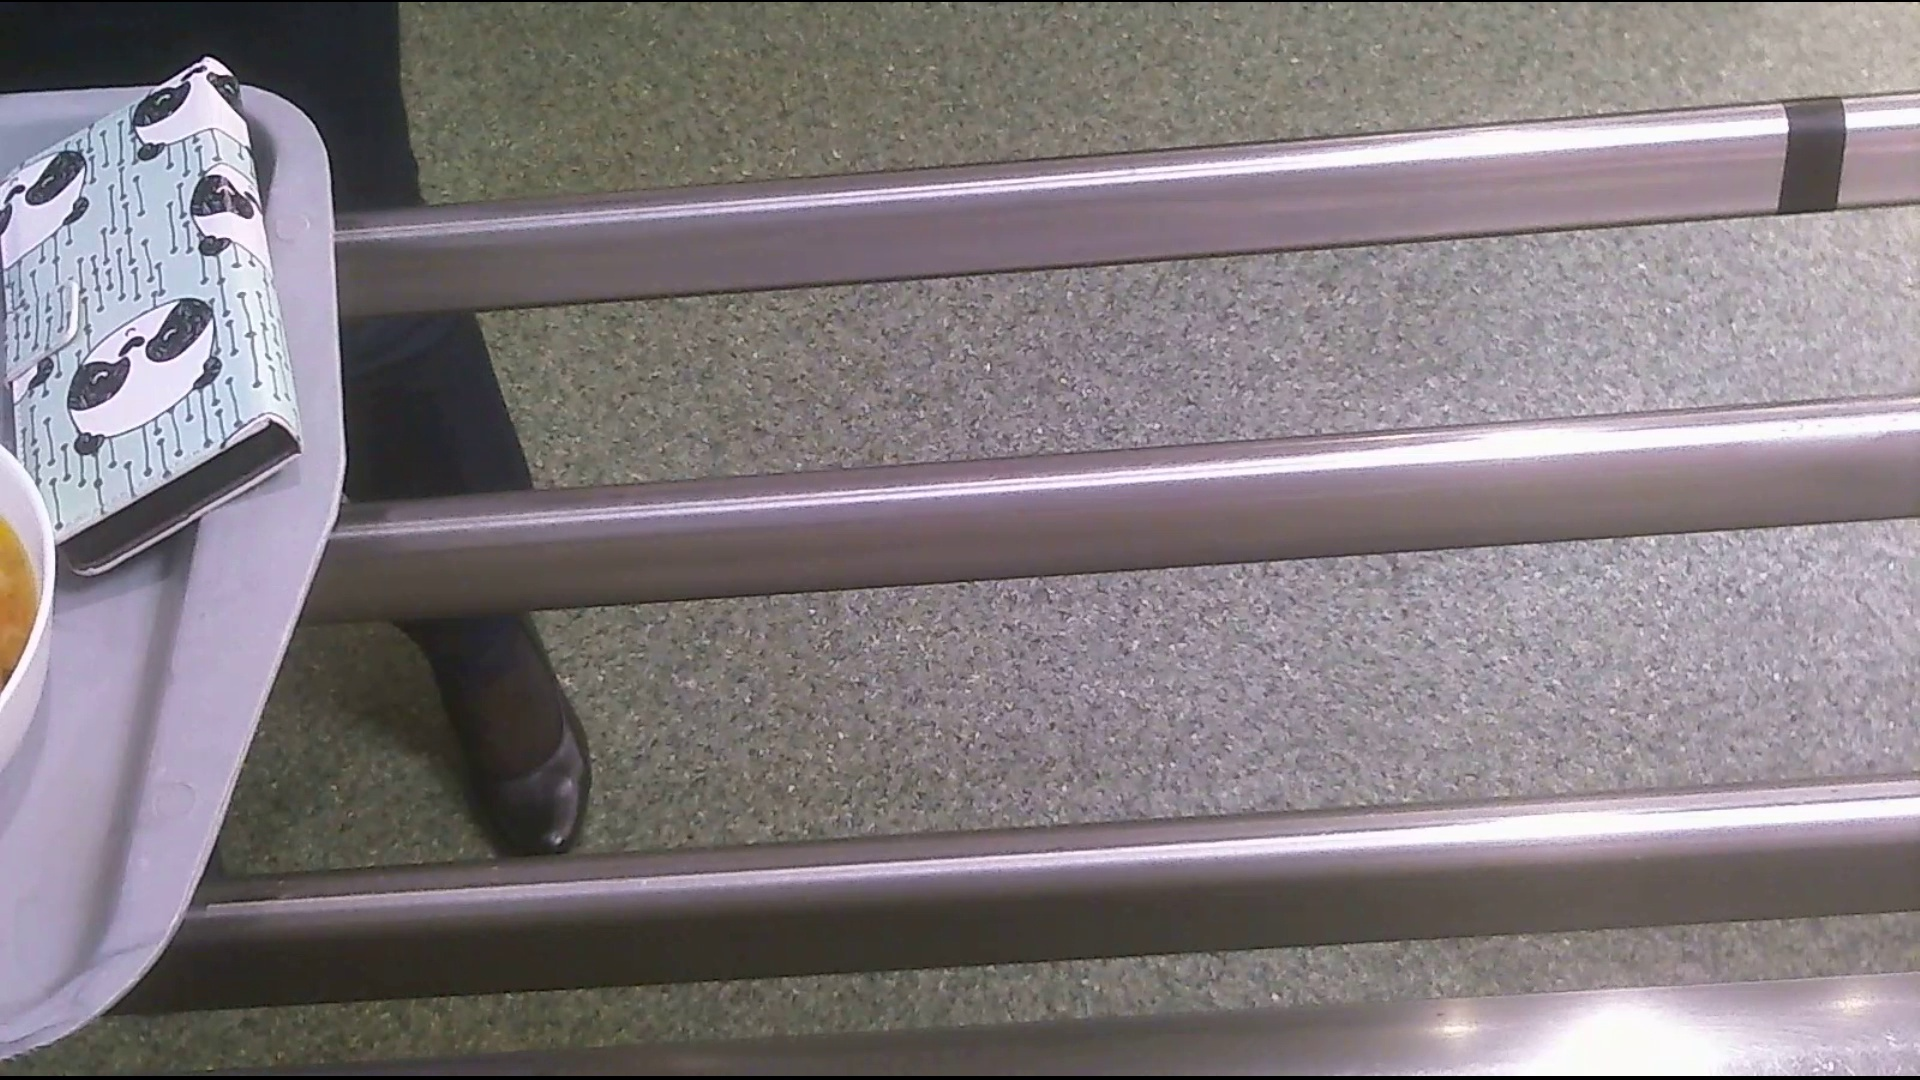other: (4, 55, 298, 582)
